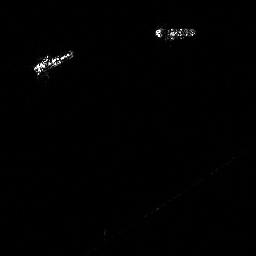ship: (33, 51, 73, 73), (155, 26, 195, 40)
